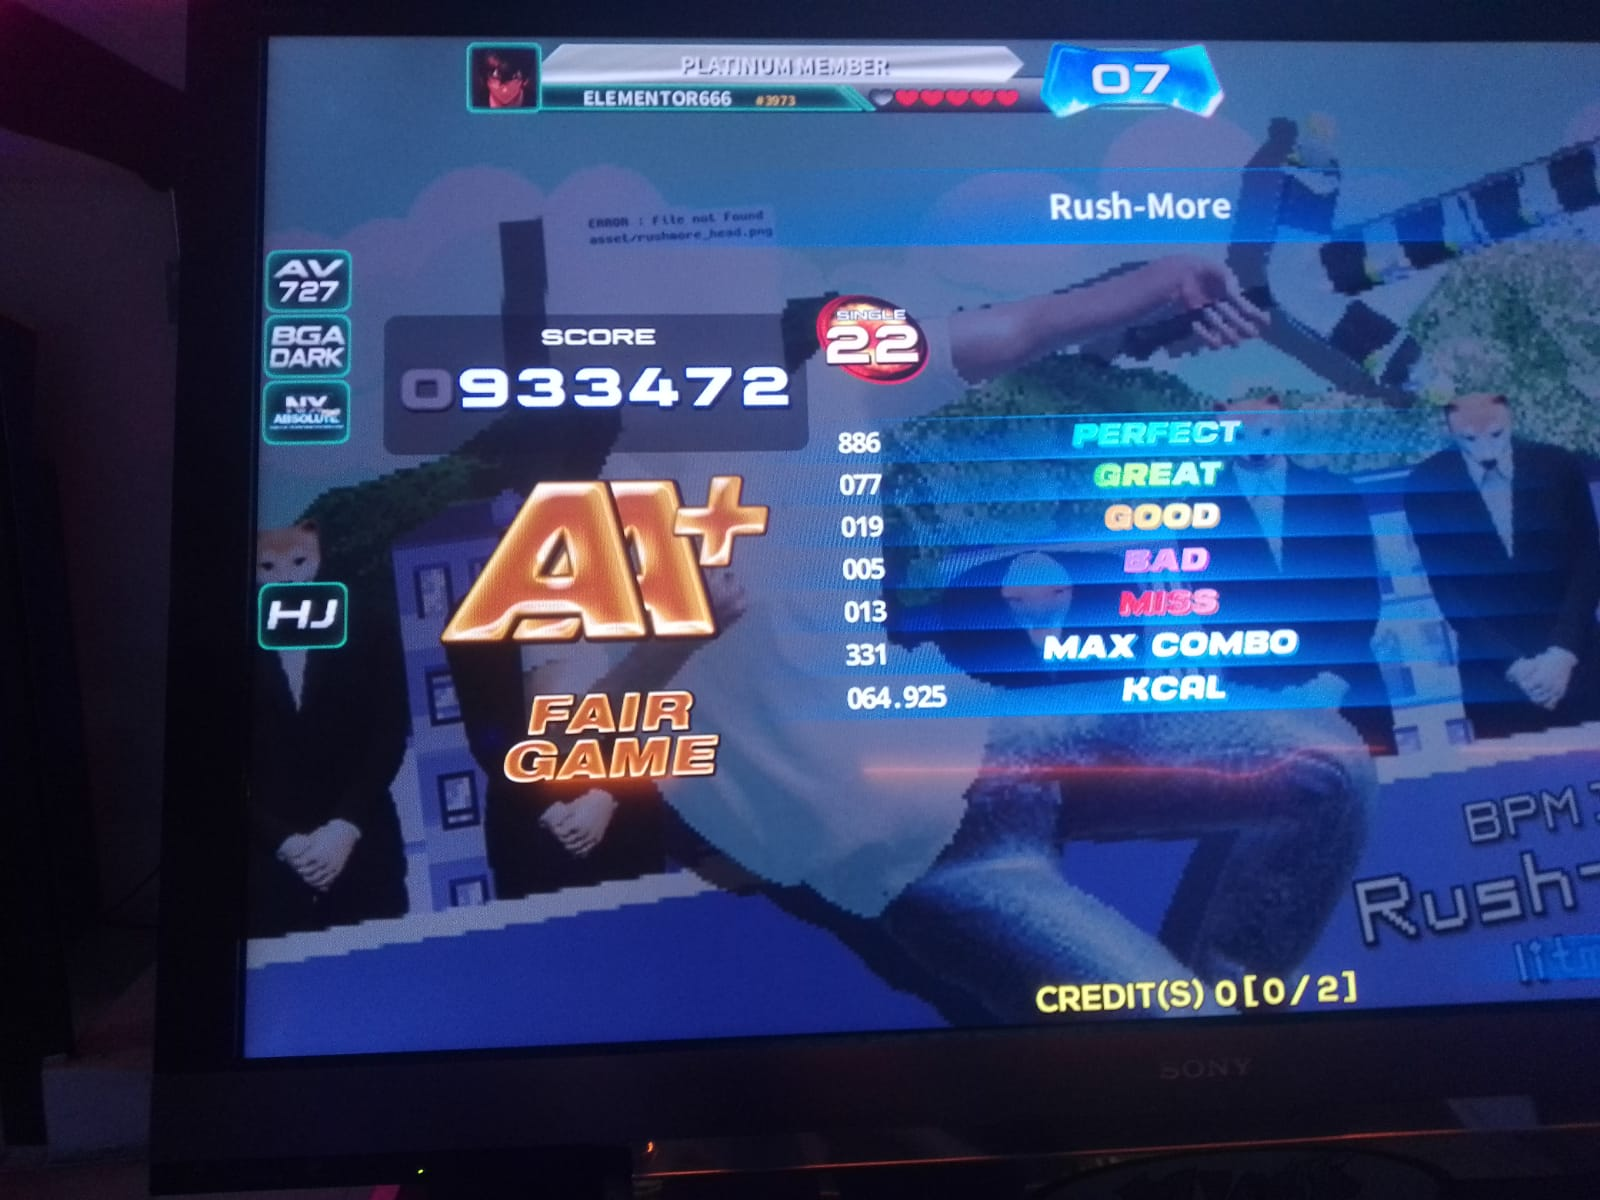difficulty: (801, 292, 947, 369)
fullscore: (214, 48, 1536, 1013)
rank: (430, 465, 786, 649)
score: (383, 304, 815, 421)
song_name: (902, 171, 1388, 252)
